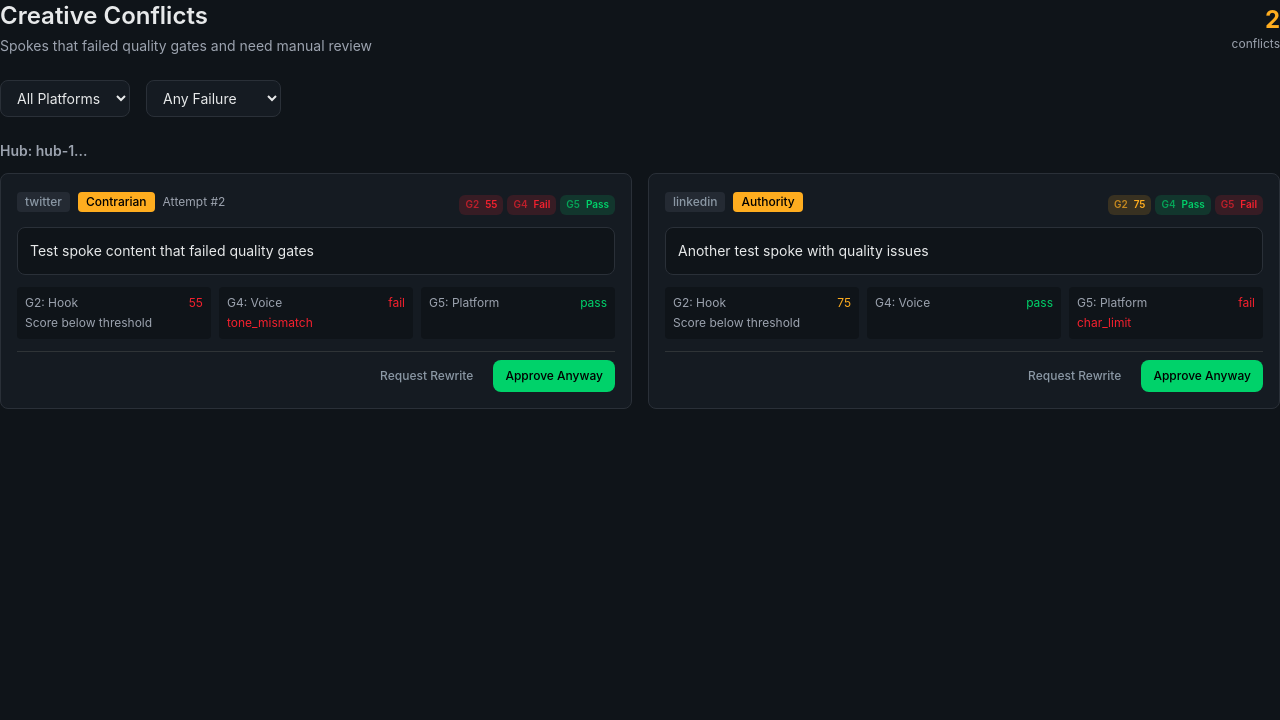
Test case: CreativeConflictsPage › Card Actions › opens feedback modal when Request Rewrite clicked
The image size is (1280, 720).
Click the button "Request Rewrite" below "tone_mismatch" at [427, 376], box [368,360,485,392]
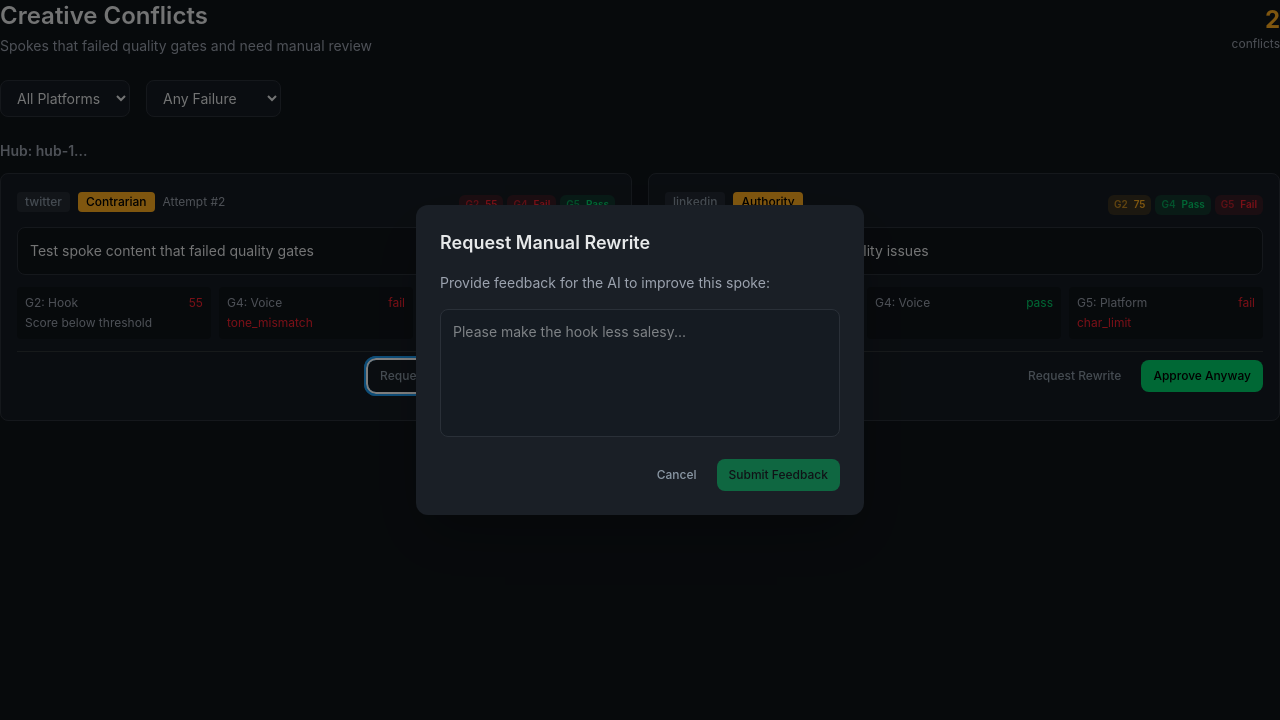
expect the heading "Request Manual Rewrite" is shown: met, box [440,232,650,253]
